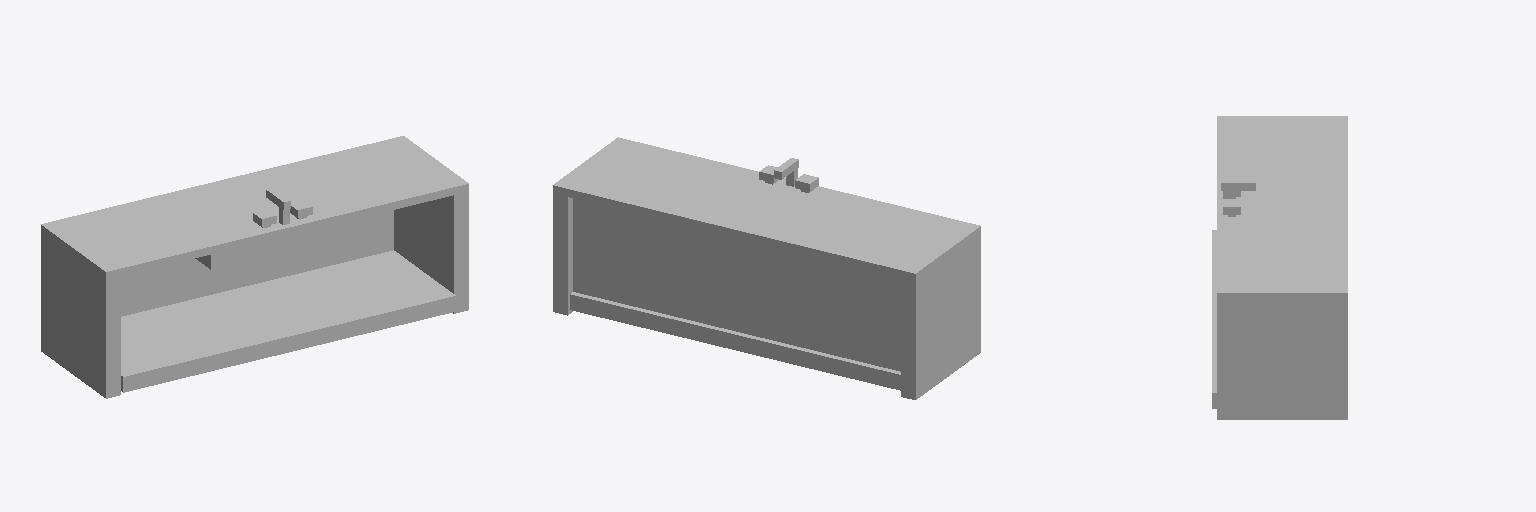
Rendered from pia_vovo.obj.
The picture shows the model from 3 angles: view 1: azimuth 30°, elevation 25°; view 2: azimuth 150°, elevation 25°; view 3: azimuth 270°, elevation 25°; orthographic projection.
Visible parts, largest first — view 1: cube, pia_vovo; view 2: cube, pia_vovo; view 3: cube, pia_vovo.
Part boxes in pixels (x1,y1,x2,y2): cube: (41, 136, 468, 398); pia_vovo: (121, 250, 455, 392); cube: (553, 137, 980, 399); pia_vovo: (570, 292, 900, 390); cube: (1217, 116, 1347, 419); pia_vovo: (1212, 230, 1216, 408).
Size of the model in its own units: 3 by 1.19 by 0.9688.